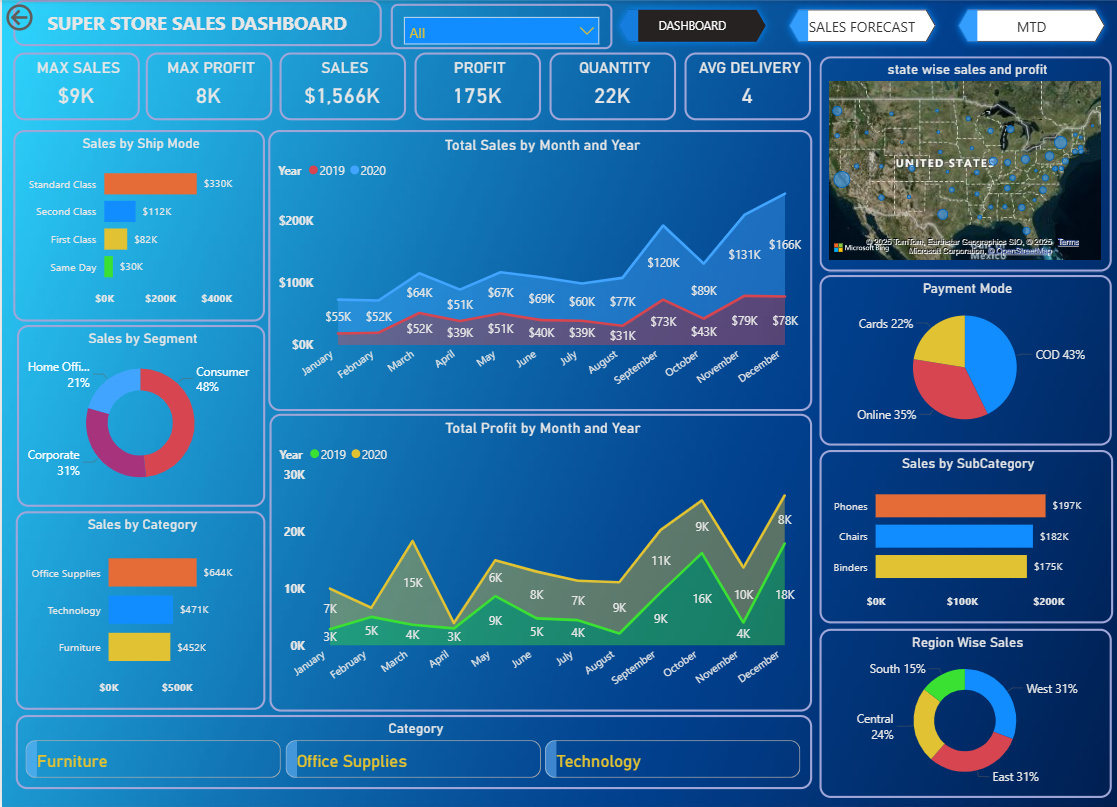

What the dashboard file says about the page in this screenshot:
{"tool":"powerbi","page":{"name":"DASHBOARD","canvas":[1280,925],"ordinal":0},"visuals":[{"type":"clusteredBarChart","title":"Sales by Category","fields":{"Category":["Sheet1.Category"],"Y":["Sum(Sheet1.Sales)"]},"box":[15.8,584.8,285.3,227],"z":0},{"type":"clusteredBarChart","title":"Sales by SubCategory","fields":{"Category":["Sheet1.Sub-Category"],"Y":["Sum(Sheet1.Sales)"]},"box":[934.8,515.5,335.8,198.6],"z":1000},{"type":"clusteredBarChart","title":"Sales by Ship Mode","fields":{"Category":["Sheet1.Ship Mode"],"Y":["Sum(Sheet1.Sales)"]},"box":[12.6,148.2,288,219],"z":2000},{"type":"stackedAreaChart","title":"Total Sales by Month and Year","fields":{"Y":["Sum(Sheet1.Sales)"],"Series":["Sheet1.Order Date.Variation.Date Hierarchy.Year"],"Category":["Sheet1.Order Date.Variation.Date Hierarchy.Month"]},"box":[304.2,148.2,622.7,321.6],"z":3000},{"type":"stackedAreaChart","title":"Total Profit by Month and Year","fields":{"Category":["Sheet1.Order Date.Variation.Date Hierarchy.Month","Sheet1.Order Date.Variation.Date Hierarchy.Day"],"Series":["Sheet1.Order Date.Variation.Date Hierarchy.Year"],"Y":["Sum(Sheet1.Profit)"]},"box":[305.8,472.9,621.1,340.5],"z":4000},{"type":"map","title":"state wise sales and profit","fields":{"Category":["Sheet1.State"],"Size":["Sum(Sheet1.Sales)"]},"box":[934.8,64.6,334.2,246],"z":5000},{"type":"donutChart","title":"Sales by Segment","fields":{"Y":["Sum(Sheet1.Sales)"],"Category":["Sheet1.Segment"]},"box":[17.3,372,283.7,208.1],"z":6000},{"type":"donutChart","title":"Region Wise Sales","fields":{"Y":["Sum(Sheet1.Sales)"],"Category":["Sheet1.Region"]},"box":[934.8,718.8,334.2,193.9],"z":7000},{"type":"pieChart","title":"Payment Mode","fields":{"Y":["Sum(Sheet1.Sales)"],"Category":["Sheet1.Payment Mode"]},"box":[934.8,315.3,334.2,195.5],"z":8000},{"type":"slicer","fields":{"Values":["Sheet1.Region"]},"box":[444.5,4.7,253.8,52],"z":9000},{"type":"textbox","box":[12.9,0,421.9,52.9],"z":10000},{"type":"card","title":"SALES","fields":{"Values":["Sum(Sheet1.Sales)"]},"box":[316.8,59.9,145,77.2],"z":11000},{"type":"card","title":"PROFIT","fields":{"Values":["Sum(Sheet1.Profit)"]},"box":[471.3,59.9,145,77.2],"z":12000},{"type":"card","title":"QUANTITY","fields":{"Values":["Sum(Sheet1.Quantity)"]},"box":[625.8,59.9,145,77.2],"z":13000},{"type":"card","title":"AVG DELIVERY","fields":{"Values":["Avg(Sheet1.AVG DELIVERY)"]},"box":[780.3,59.9,145,77.2],"z":14000},{"type":"card","title":"MAX SALES","fields":{"Values":["Max(Sheet1.Sales)"]},"box":[12.6,59.9,145,77.2],"z":15000},{"type":"card","title":"MAX PROFIT","fields":{"Values":["Max(Sheet1.Profit)"]},"box":[163.9,59.9,145,77.2],"z":16000},{"type":"advancedSlicerVisual","fields":{"Values":["Sheet1.Category"]},"box":[15.8,818.1,911.1,85.1],"z":17000},{"type":"actionButton","box":[0,0,100,40],"z":18000},{"type":"pageNavigator","box":[698.3,3.2,572.2,53.6],"z":19000}]}

Visuals, with their boxes in screenshot pixels (x1, y1, x2, y2), scaled from the page's 1280x925 canvas onto the 1117x807 screenshot:
"Sales by Category" clusteredBarChart: [left=14, top=510, right=263, bottom=708]
"Sales by SubCategory" clusteredBarChart: [left=816, top=450, right=1109, bottom=623]
"Sales by Ship Mode" clusteredBarChart: [left=11, top=129, right=262, bottom=320]
"Total Sales by Month and Year" stackedAreaChart: [left=265, top=129, right=809, bottom=410]
"Total Profit by Month and Year" stackedAreaChart: [left=267, top=413, right=809, bottom=710]
"state wise sales and profit" map: [left=816, top=56, right=1107, bottom=271]
"Sales by Segment" donutChart: [left=15, top=325, right=263, bottom=506]
"Region Wise Sales" donutChart: [left=816, top=627, right=1107, bottom=796]
"Payment Mode" pieChart: [left=816, top=275, right=1107, bottom=446]
slicer - Sheet1.Region: [left=388, top=4, right=609, bottom=49]
textbox: [left=11, top=0, right=379, bottom=46]
"SALES" card: [left=276, top=52, right=403, bottom=120]
"PROFIT" card: [left=411, top=52, right=538, bottom=120]
"QUANTITY" card: [left=546, top=52, right=673, bottom=120]
"AVG DELIVERY" card: [left=681, top=52, right=807, bottom=120]
"MAX SALES" card: [left=11, top=52, right=138, bottom=120]
"MAX PROFIT" card: [left=143, top=52, right=270, bottom=120]
advancedSlicerVisual - Sheet1.Category: [left=14, top=714, right=809, bottom=788]
actionButton: [left=0, top=0, right=87, bottom=35]
pageNavigator: [left=609, top=3, right=1109, bottom=50]
